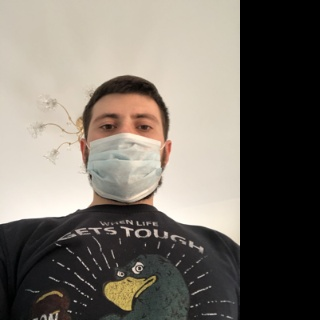with_mask: (87, 107, 164, 202)
